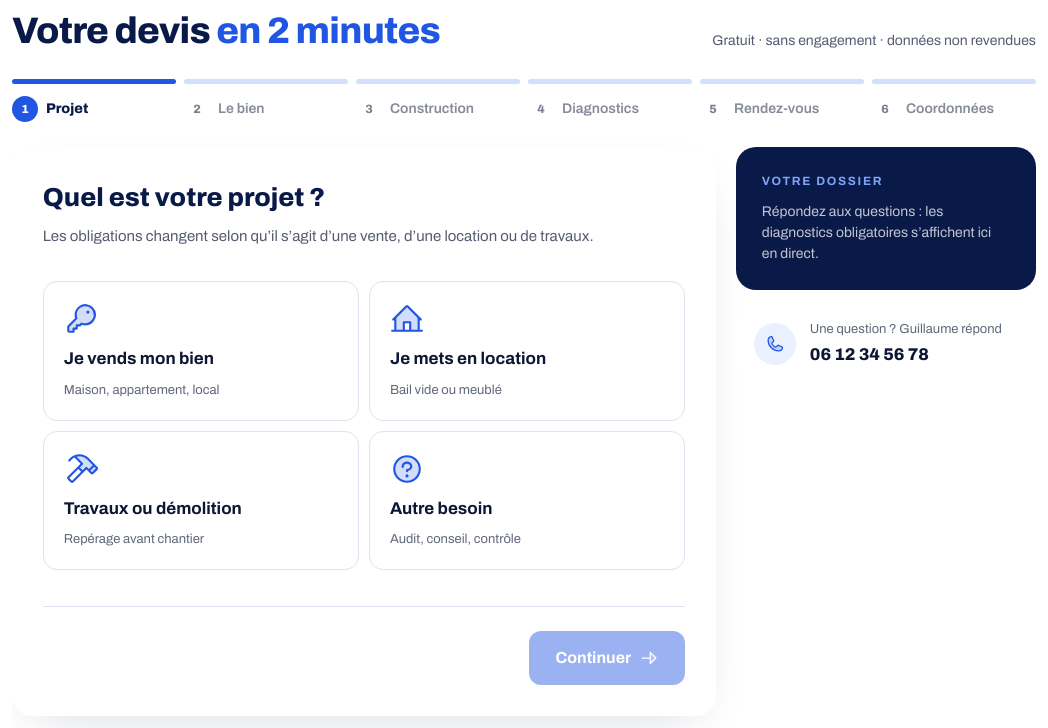
Test: DevisWizard › « Travaux » fait apparaître « Nature du chantier »
Click the button "Travaux ou démolition Repérage avant chantier" at (201, 500), box x1=43 y1=431 x2=359 y2=570
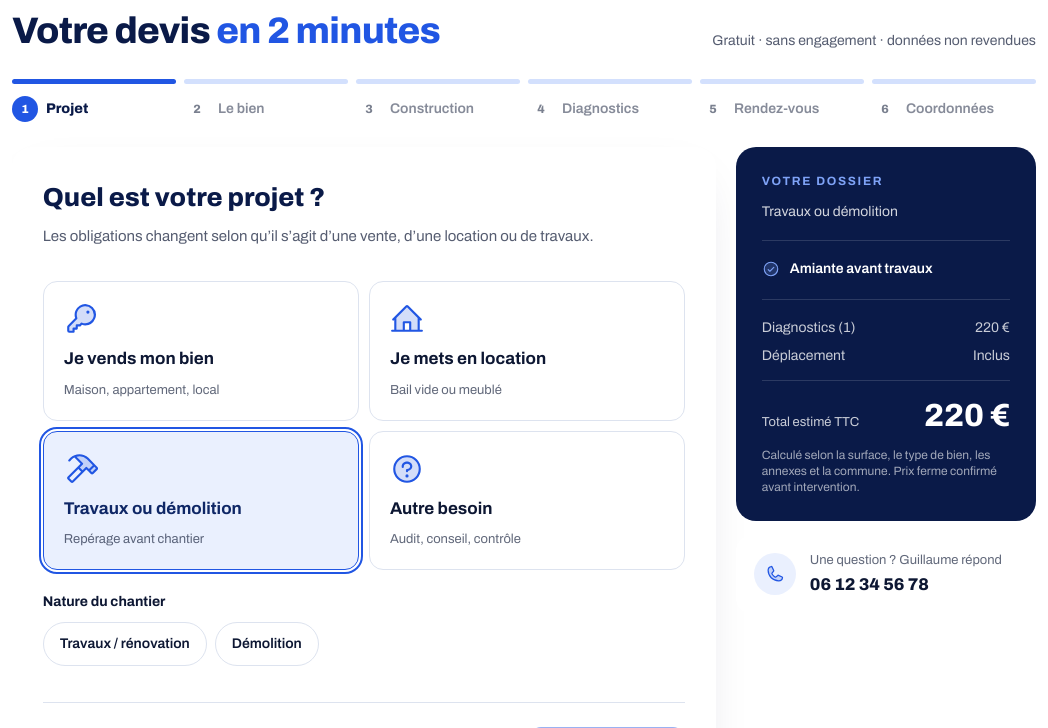
Check: the element "Nature du chantier" is shown, box x1=43 y1=594 x2=319 y2=666
